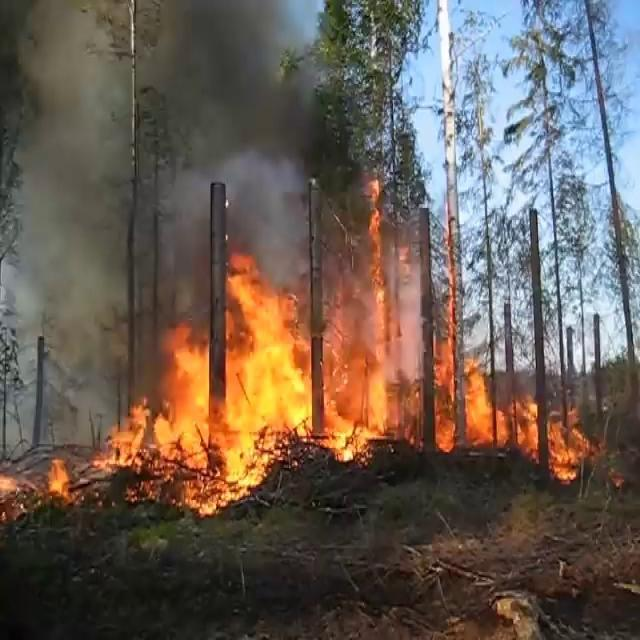Fire: (319, 198, 423, 465), (220, 249, 314, 492), (448, 346, 608, 474), (121, 343, 210, 501), (48, 459, 68, 497)
Smoke: (0, 0, 200, 328), (197, 0, 308, 241), (0, 342, 110, 435)
